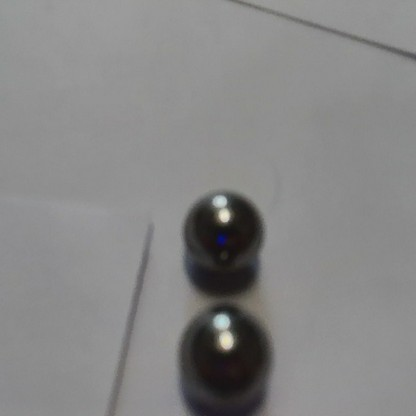ironball: (171, 302, 281, 408), (179, 184, 264, 276)
